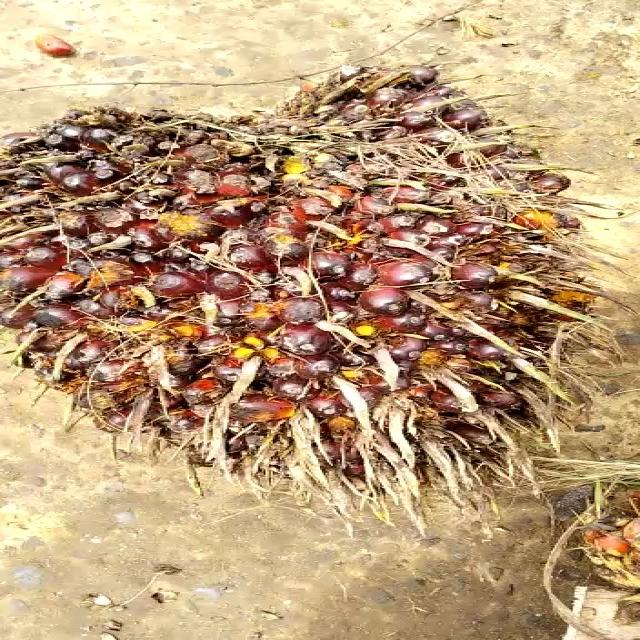palm oil: (0, 43, 640, 487)
